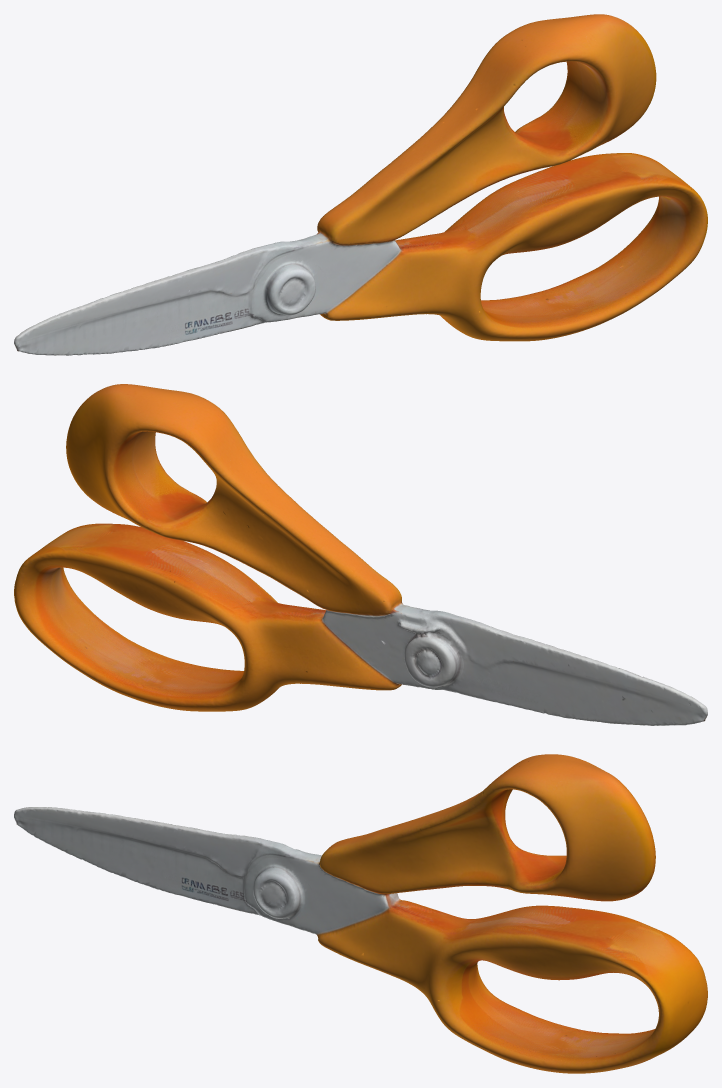
File: Meshy_scissors_texture.glb
3 renders of one model, top to bottom at view 1: azimuth 30°, elevation 25°; view 2: azimuth 150°, elevation 25°; view 3: azimuth 330°, elevation 25°, orthographic.
Size of the model in its own units: 2 by 0.8573 by 0.2343.
1 material, 1 textured.
